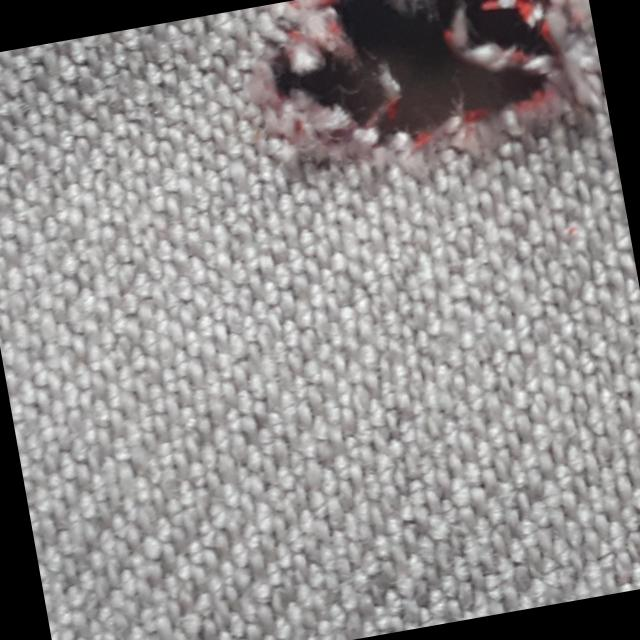hole: (233, 0, 610, 185)
